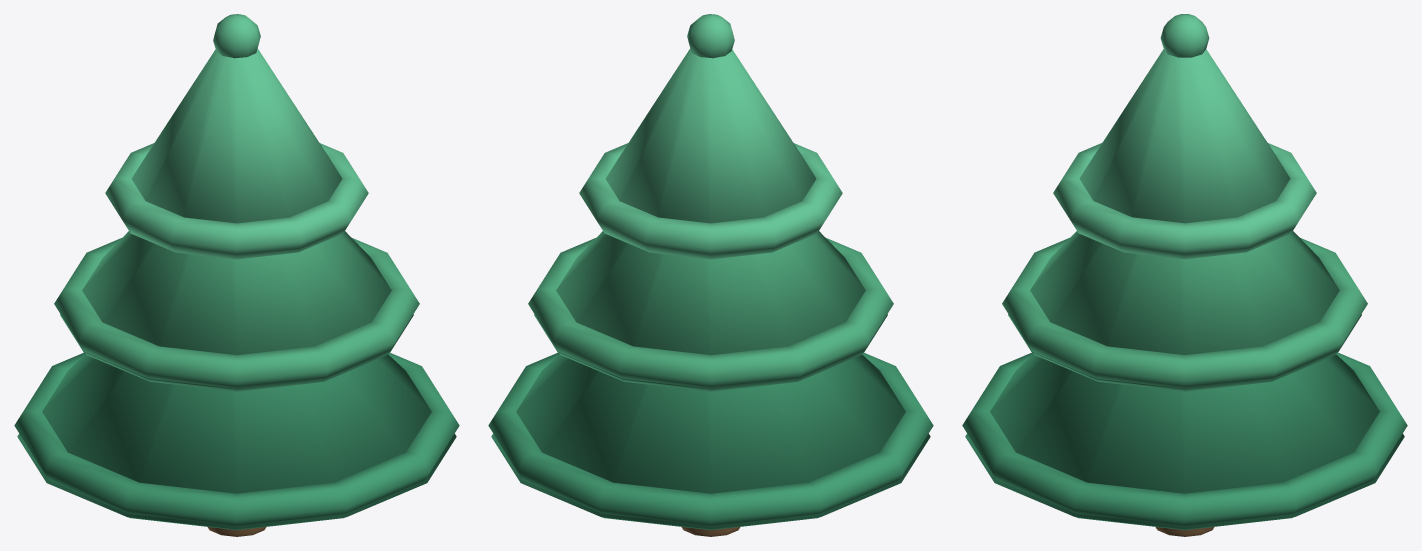
File: tree_pine.glb
The picture shows the model from 3 angles, left to right: view 1: azimuth 30°, elevation 25°; view 2: azimuth 150°, elevation 25°; view 3: azimuth 270°, elevation 25°; orthographic projection.
Parts seen in each view (by area): view 1: Tree; view 2: Tree; view 3: Tree.
Part boxes in pixels (<box>): Tree: <box>14,14,459,536</box>; Tree: <box>488,14,933,536</box>; Tree: <box>962,14,1407,536</box>.
Size of the model in its own units: 0.7296 by 0.92 by 0.7296.
